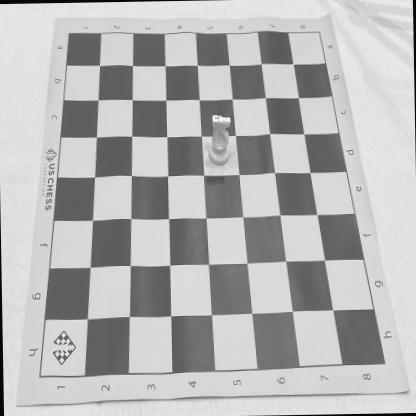white-knight: (207, 114, 231, 166)
